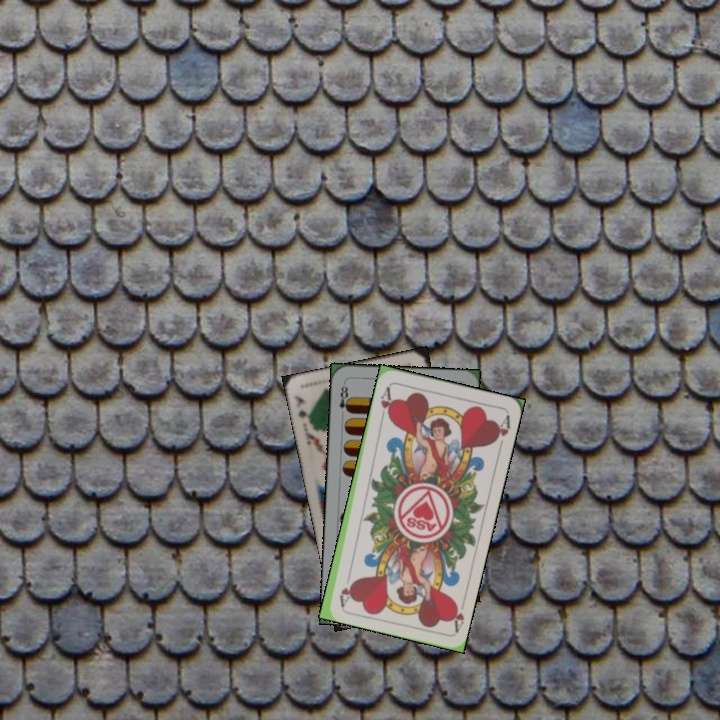E8: (335, 379, 353, 419)
GK: (290, 391, 315, 427)
HA: (446, 598, 467, 635), (376, 382, 395, 422)
